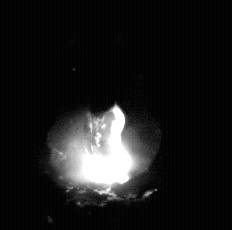arame: (89, 0, 116, 117)
poca: (46, 0, 162, 230)
